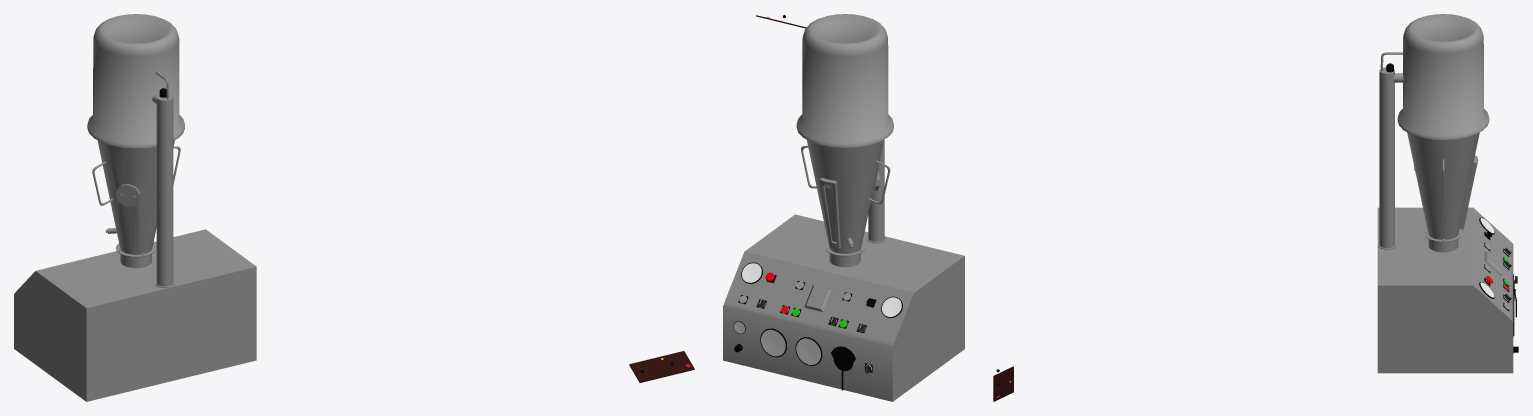
File: Machine_Substance.obj
3 views of the same model, side by side, from view 1: azimuth 30°, elevation 25°; view 2: azimuth 150°, elevation 25°; view 3: azimuth 270°, elevation 25° (orthographic). The views are drawn at different scales.
Visible parts, largest first — view 1: Socle_Socle, Pillier_Pillier, Cylindre001_Cylindre001, Tableau_Tableau; view 2: Socle_Socle, Pillier_Pillier, Contoure_compteur003_Contoure_compteur003, Cylindre001_Cylindre001, Boîte002_Boîte002, Poignet_bouton_socle_Poignet_bouton_socle, Contoure_compteur_Contoure_compteur, Contoure_compteur001_Contoure_compteur001, vitre_vitre; view 3: Socle_Socle, Pillier_Pillier, Cylindre001_Cylindre001, Tableau_Tableau.
Boxes of the visible parts, x1,y1,x2,y2 form: Socle_Socle: (14,229,256,401); Pillier_Pillier: (87,14,184,269); Cylindre001_Cylindre001: (152,71,174,288); Tableau_Tableau: (629,351,694,382); Socle_Socle: (723,214,964,401); Pillier_Pillier: (796,14,893,268); Contoure_compteur003_Contoure_compteur003: (760,328,822,365); Cylindre001_Cylindre001: (866,139,886,243); Boîte002_Boîte002: (804,284,832,312); Poignet_bouton_socle_Poignet_bouton_socle: (831,346,855,371); Contoure_compteur_Contoure_compteur: (741,262,762,283); Contoure_compteur001_Contoure_compteur001: (881,296,902,317); vitre_vitre: (825,187,835,241); Socle_Socle: (1377,207,1513,373); Pillier_Pillier: (1397,14,1489,253); Cylindre001_Cylindre001: (1377,52,1403,249); Tableau_Tableau: (993,366,1013,401).
Bounding box in the file's own units: 195 × 151 × 234.
